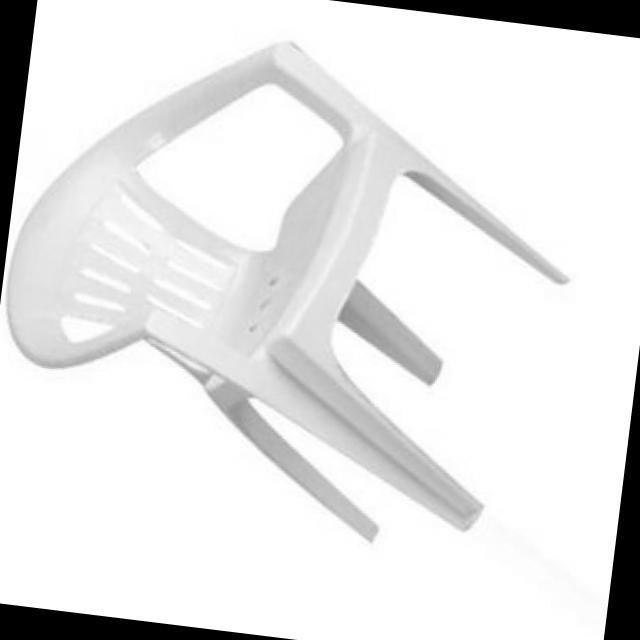chair: (0, 9, 593, 568)
